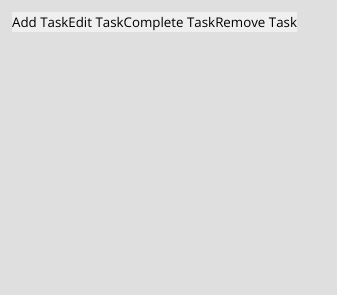
Scenario: Context: Task Provider › should add a task to tasks state.
Step 1. Click the button "Add Task" → (40, 22), box [12,12,68,32]
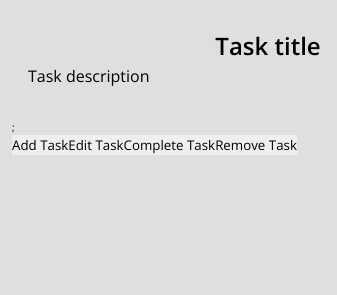
Expected: the number of headings "Task title" is 1, [215,28,321,64]
Step 2. Click the button "Add Task" → (40, 145), box [12,135,68,155]
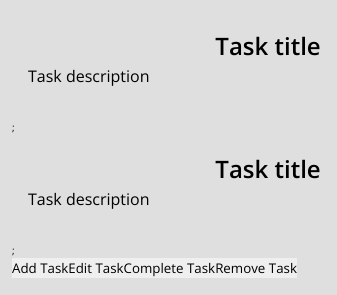
Expected: the number of headings "Task title" is 2, [215,28,321,64]; [215,151,321,187]
